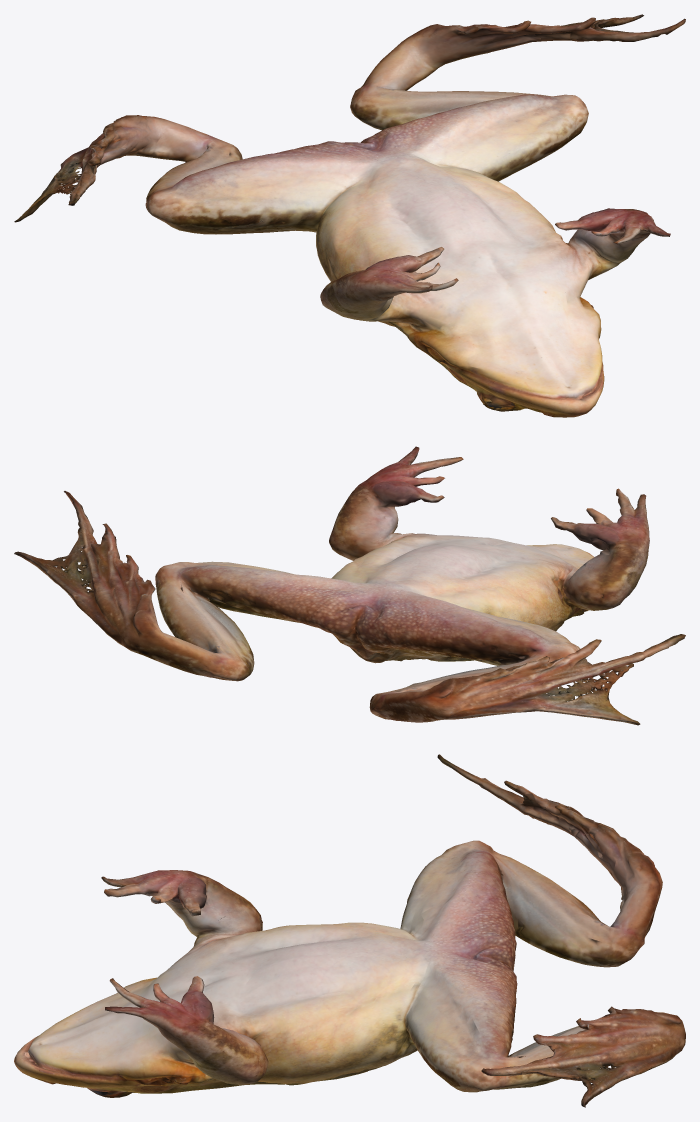
File: frog.glb
3 renders of one model, top to bottom at view 1: azimuth 30°, elevation 25°; view 2: azimuth 150°, elevation 25°; view 3: azimuth 270°, elevation 25°, orthographic. The views are drawn at different scales.
Parts seen in each view (by area): view 1: skin, hindlimb-right, hindlimb-left, forelimb-left, forelimb-right; view 2: hindlimb-right, hindlimb-left, skin, forelimb-left, forelimb-right; view 3: skin, hindlimb-left, hindlimb-right, forelimb-right, forelimb-left.
Boxes of the visible parts, <box> form: skin: <box>231,118,604,417</box>; hindlimb-right: <box>350,14,685,181</box>; hindlimb-left: <box>14,115,371,234</box>; forelimb-left: <box>320,247,458,346</box>; forelimb-right: <box>555,208,670,275</box>; hindlimb-right: <box>14,491,366,681</box>; hindlimb-left: <box>350,602,685,725</box>; skin: <box>291,531,594,661</box>; forelimb-left: <box>551,488,649,623</box>; forelimb-right: <box>329,446,463,560</box>; skin: <box>14,880,479,1097</box>; hindlimb-left: <box>413,754,662,971</box>; hindlimb-right: <box>413,953,685,1107</box>; forelimb-right: <box>105,976,268,1085</box>; forelimb-left: <box>101,870,262,946</box>.
Bounding box in the file's own units: 13.93 × 3.53 × 11.84.
1 material, 1 textured.
